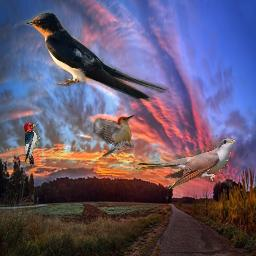Cuckoo: (135, 138, 235, 189)
Swallow: (22, 8, 169, 102)
Woodpecker: (86, 114, 134, 157), (23, 123, 42, 169)
